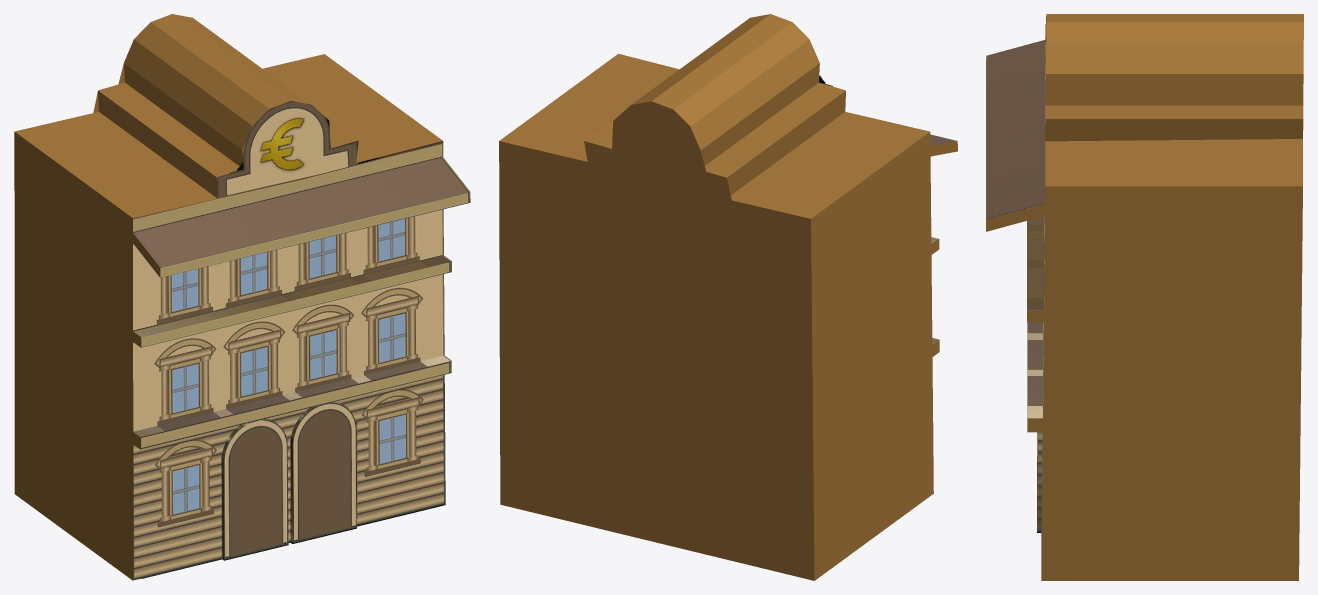
Rendered from Bank.fbx.
3 views of the same model, side by side, from view 1: azimuth 30°, elevation 25°; view 2: azimuth 150°, elevation 25°; view 3: azimuth 270°, elevation 25° (orthographic). The views are drawn at different scales.
Parts seen in each view (by area): view 1: _Object_Pivot_Node_; view 2: _Object_Pivot_Node_; view 3: _Object_Pivot_Node_.
Part boxes in pixels (box(x1,y1,x2,y2)): _Object_Pivot_Node_: box(14, 14, 470, 580); _Object_Pivot_Node_: box(499, 14, 957, 580); _Object_Pivot_Node_: box(986, 14, 1303, 580).
Bounding box in the file's own units: 48.26 × 64.93 × 39.15.
Materials: 4 (2 with a texture image).
